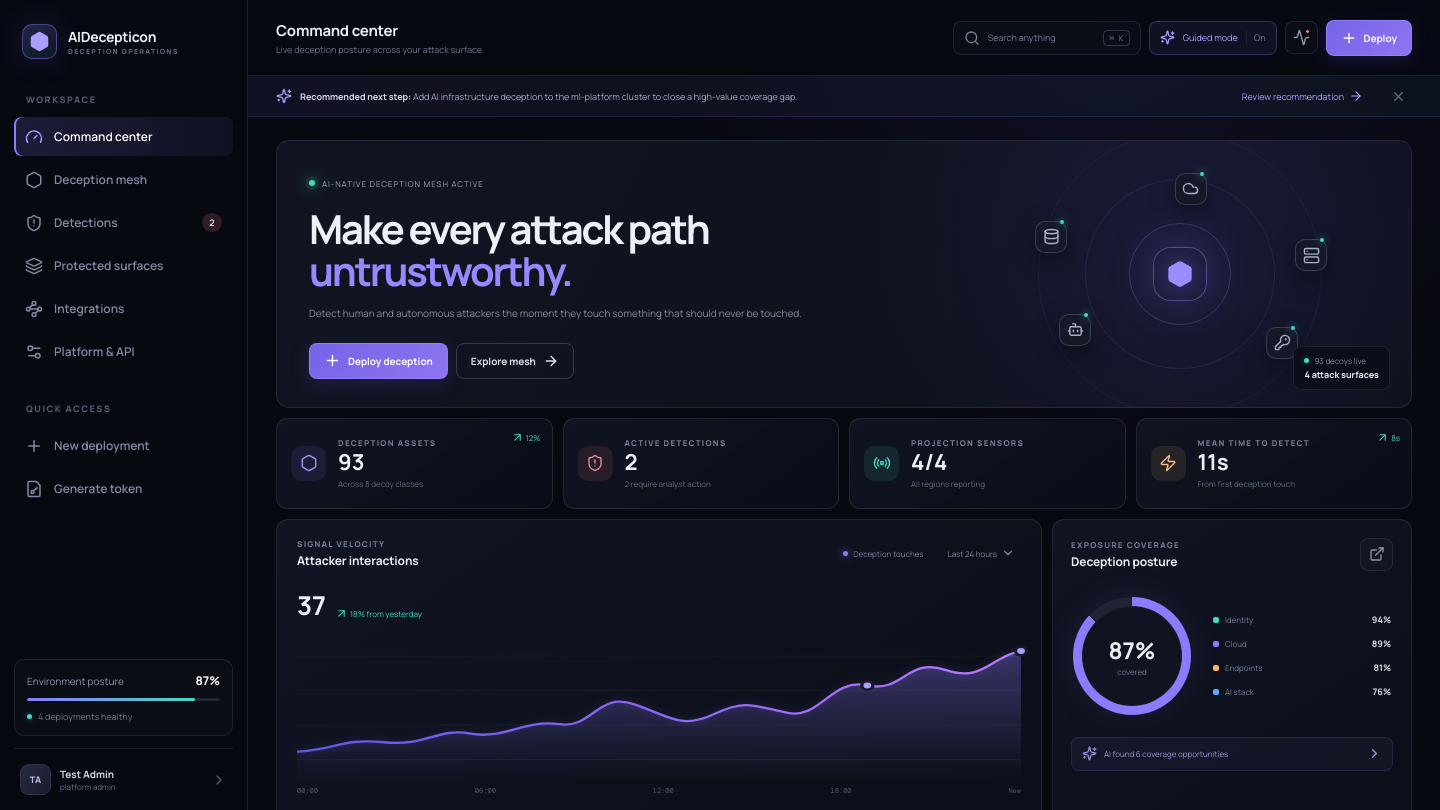
AIDecepticon control plane › shows the current controller and guided maintenance action
The width and height of the screenshot is (1440, 810).
expect the heading "Make every attack path" is shown: met, box left=309, top=201, right=709, bottom=256
Click the button "Platform & API": (124, 352) left=14, top=332, right=233, bottom=371
(page scrolled)
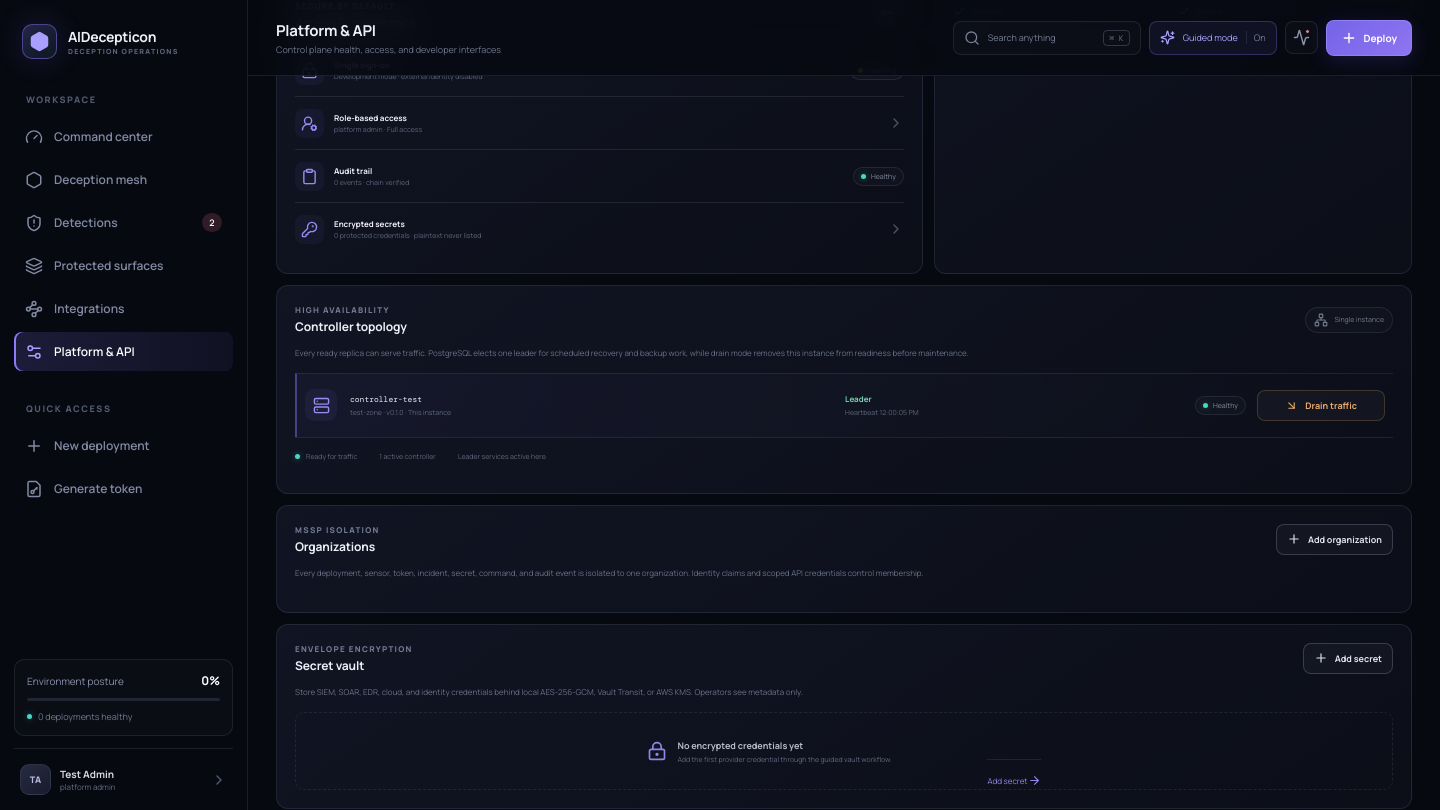
expect the heading "Controller topology" is shown: met, box left=295, top=318, right=407, bottom=335
expect the text "controller-test" is shown: met, box left=350, top=394, right=422, bottom=404
expect the button "Drain traffic" is shown: met, box left=1257, top=390, right=1385, bottom=421
